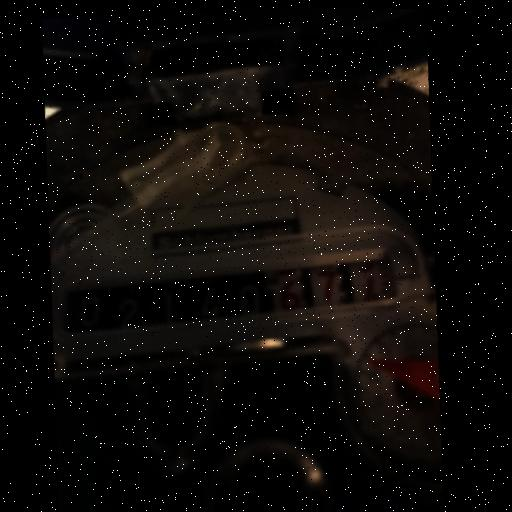0: (229, 270, 271, 321), (68, 287, 112, 334)
1: (150, 278, 190, 328)
2: (110, 283, 150, 333)
4: (186, 273, 229, 325), (346, 254, 388, 307)
6: (268, 264, 310, 316)
7: (307, 261, 351, 311)
border_water_meter_number: (54, 237, 408, 352)
